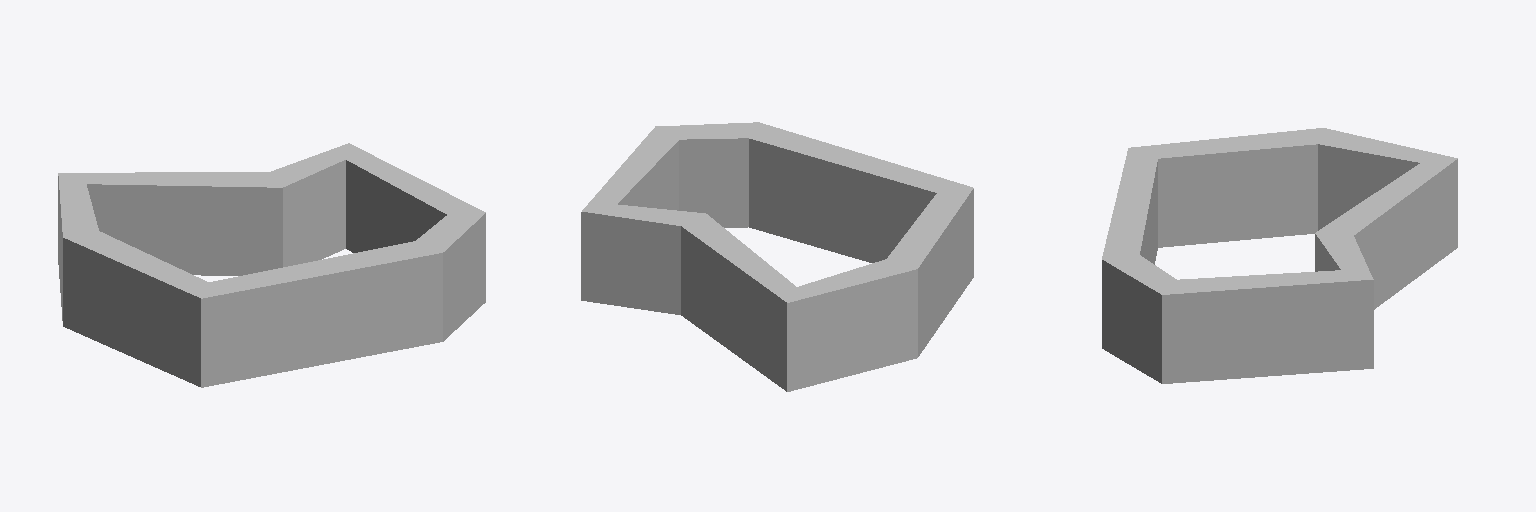
File: gate11.obj
3 renders of one model, left to right at view 1: azimuth 30°, elevation 25°; view 2: azimuth 150°, elevation 25°; view 3: azimuth 270°, elevation 25°, orthographic.
Visible parts, largest first — view 1: Cylinder; view 2: Cylinder; view 3: Cylinder.
Boxes of the visible parts, <box> form: Cylinder: <box>58,143,485,387</box>; Cylinder: <box>581,122,973,391</box>; Cylinder: <box>1102,128,1457,383</box>.
Bounding box in the file's own units: 2.01 × 0.5 × 1.81.